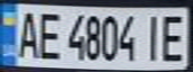0: (100, 11, 121, 62)
4: (118, 11, 142, 62), (63, 9, 84, 61)
8: (81, 11, 103, 62)
A: (12, 7, 42, 60)
E: (157, 11, 190, 63), (33, 8, 63, 61)
I: (139, 11, 166, 63)
